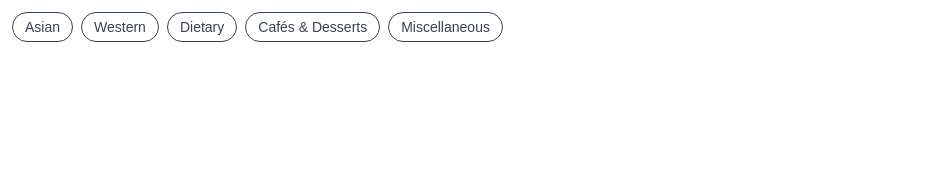
Scenario: CuisinePicker › hides the specifics again when the group is deselected
Click the button "Asian": point(42, 27) left=12, top=12, right=73, bottom=42
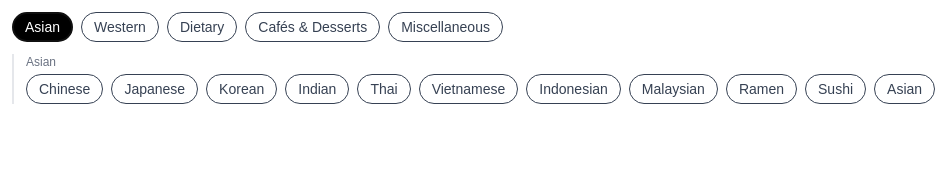
Now the button "Japanese" is shown, box left=111, top=74, right=198, bottom=104
Click the 1st button "Asian": point(42, 27) left=12, top=12, right=73, bottom=42
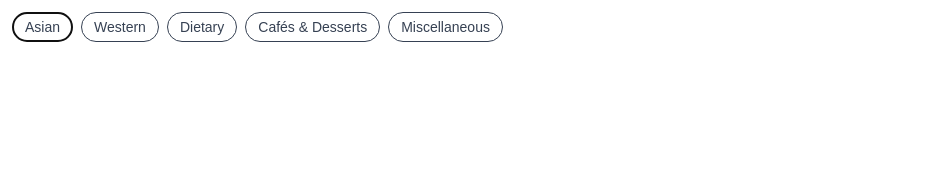
Now the button "Japanese" is gone
